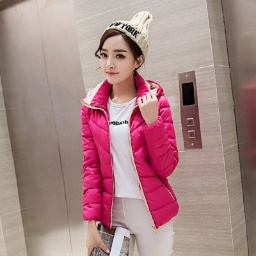face: (90, 19, 149, 88)
